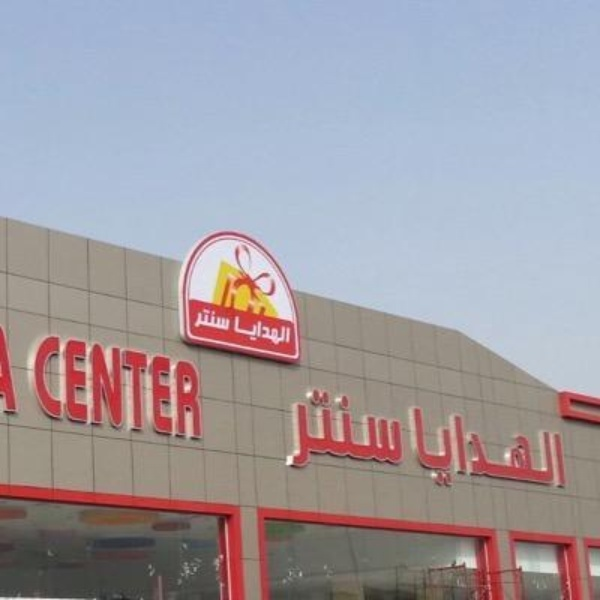text: (33, 331, 48, 443), (49, 331, 64, 443), (65, 331, 80, 443), (81, 331, 96, 443), (97, 331, 112, 443), (113, 331, 128, 443), (129, 331, 144, 443), (145, 331, 160, 443), (161, 331, 176, 443), (177, 331, 192, 443), (305, 385, 320, 485), (321, 385, 336, 485), (337, 385, 352, 485), (353, 385, 368, 485), (369, 385, 384, 485), (385, 385, 400, 485), (193, 331, 206, 443), (417, 401, 432, 492), (433, 401, 448, 492), (449, 401, 464, 492), (465, 401, 480, 492), (481, 401, 496, 492), (497, 401, 512, 492), (513, 401, 528, 492), (529, 401, 544, 492), (545, 401, 560, 492), (292, 385, 304, 485), (404, 401, 416, 492), (401, 385, 410, 485), (561, 401, 569, 492), (241, 310, 256, 358), (257, 310, 272, 358), (273, 310, 288, 358), (241, 314, 256, 349), (257, 314, 272, 349), (273, 314, 288, 349), (209, 307, 224, 337), (209, 307, 224, 334), (197, 307, 208, 337), (289, 310, 295, 358), (233, 314, 240, 349), (199, 307, 208, 334), (225, 307, 232, 337), (236, 310, 240, 358), (225, 307, 232, 334), (31, 331, 32, 443), (289, 314, 292, 349)
